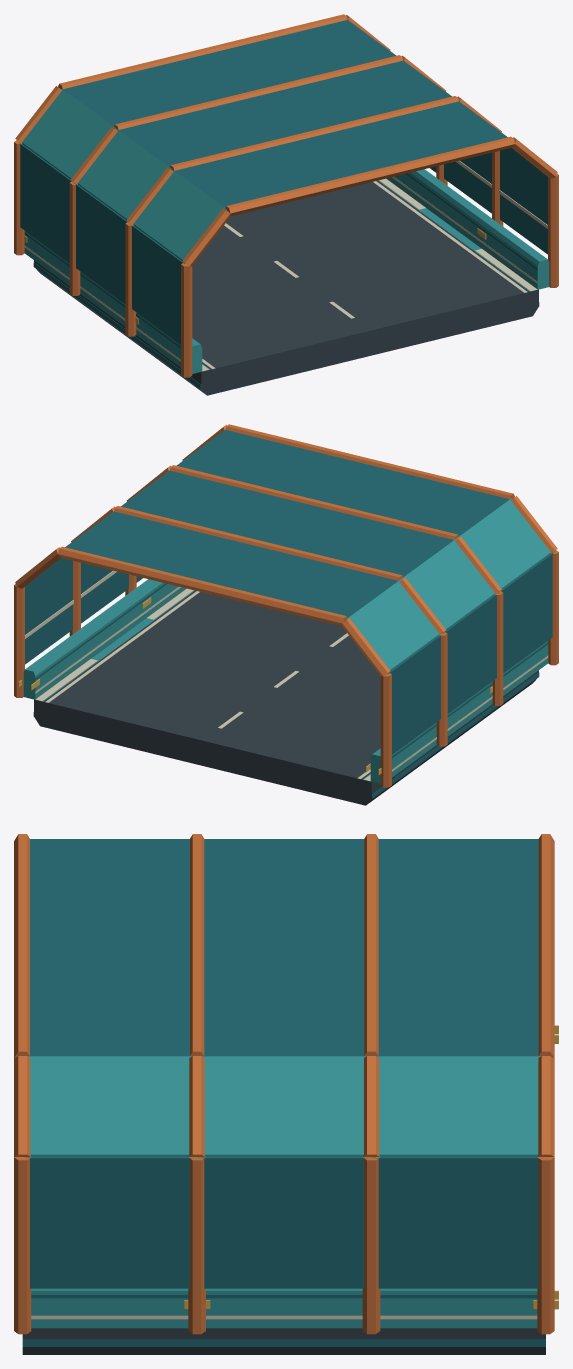
File: track_tunnel_01.glb
3 renders of one model, top to bottom at view 1: azimuth 30°, elevation 25°; view 2: azimuth 150°, elevation 25°; view 3: azimuth 270°, elevation 25°, orthographic. The views are drawn at different scales.
Visible parts, largest first — view 1: track_tunnel_01__TunnelShell, track_tunnel_01__Surface, track_tunnel_01__RailRight, track_tunnel_01__RailLeft; view 2: track_tunnel_01__TunnelShell, track_tunnel_01__Surface, track_tunnel_01__RailRight, track_tunnel_01__RailLeft; view 3: track_tunnel_01__TunnelShell, track_tunnel_01__RailRight, track_tunnel_01__Surface.
Boxes of the visible parts, bbox=[...] form: track_tunnel_01__TunnelShell: bbox=[14, 14, 558, 377]; track_tunnel_01__Surface: bbox=[33, 178, 539, 395]; track_tunnel_01__RailRight: bbox=[386, 169, 549, 289]; track_tunnel_01__RailLeft: bbox=[24, 231, 202, 373]; track_tunnel_01__TunnelShell: bbox=[14, 424, 558, 787]; track_tunnel_01__Surface: bbox=[33, 588, 539, 805]; track_tunnel_01__RailRight: bbox=[18, 579, 186, 699]; track_tunnel_01__RailLeft: bbox=[366, 641, 548, 783]; track_tunnel_01__TunnelShell: bbox=[14, 834, 554, 1334]; track_tunnel_01__RailRight: bbox=[31, 1288, 558, 1328]; track_tunnel_01__Surface: bbox=[22, 1328, 545, 1354].
Bounding box in the file's own units: 15.55 × 7.27 × 12.5.
